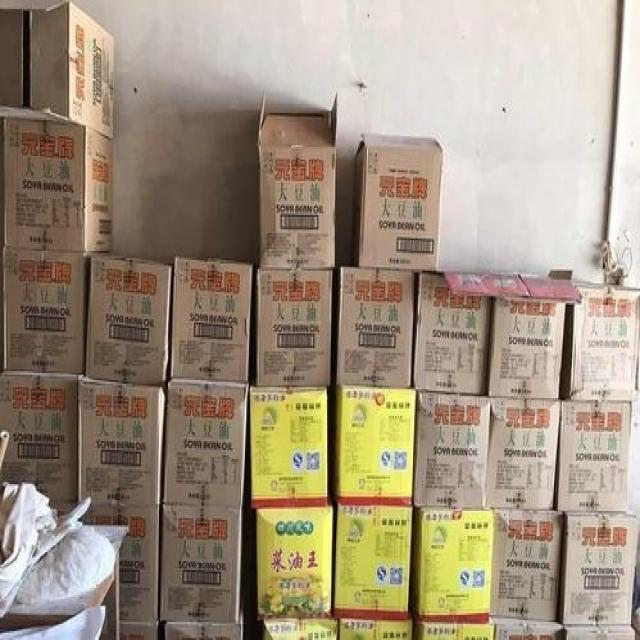box: (0, 0, 114, 138), (4, 117, 113, 253), (257, 91, 339, 271), (350, 134, 442, 272), (77, 375, 168, 506), (163, 378, 249, 509), (3, 247, 91, 375), (0, 369, 77, 515), (85, 256, 172, 385), (330, 387, 417, 506), (171, 256, 253, 382), (409, 506, 495, 624), (412, 272, 493, 394), (159, 506, 244, 622), (249, 384, 328, 507), (336, 267, 416, 387), (562, 283, 640, 402), (255, 267, 332, 387), (413, 391, 491, 509), (333, 506, 413, 620), (558, 515, 640, 626), (554, 400, 632, 513), (486, 396, 562, 511), (257, 506, 333, 620), (491, 509, 564, 622), (91, 506, 160, 622), (489, 298, 566, 400), (165, 595, 244, 640), (491, 617, 566, 640), (262, 618, 339, 640), (339, 620, 414, 640), (413, 622, 494, 640), (566, 626, 635, 640), (121, 620, 160, 640)
